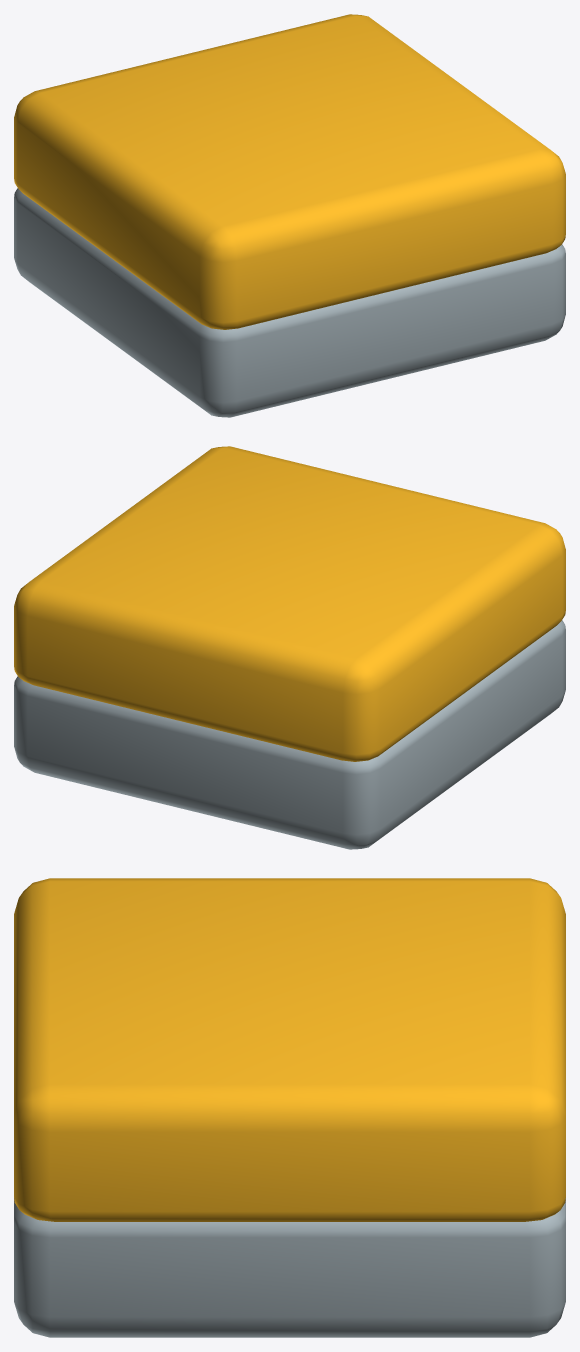
The model's file is tileLow_teamYellow-col.glb.
3 views of the same model, one above another, from view 1: azimuth 30°, elevation 25°; view 2: azimuth 150°, elevation 25°; view 3: azimuth 270°, elevation 25° (orthographic). The views are drawn at different scales.
Parts seen in each view (by area): view 1: tileLow_teamYellow-col; view 2: tileLow_teamYellow-col; view 3: tileLow_teamYellow-col.
Part boxes in pixels (x1,y1,x2,y2): tileLow_teamYellow-col: (14,14,565,417); tileLow_teamYellow-col: (14,446,565,849); tileLow_teamYellow-col: (14,878,565,1337).
Bounding box in the file's own units: 2 × 1 × 2.
